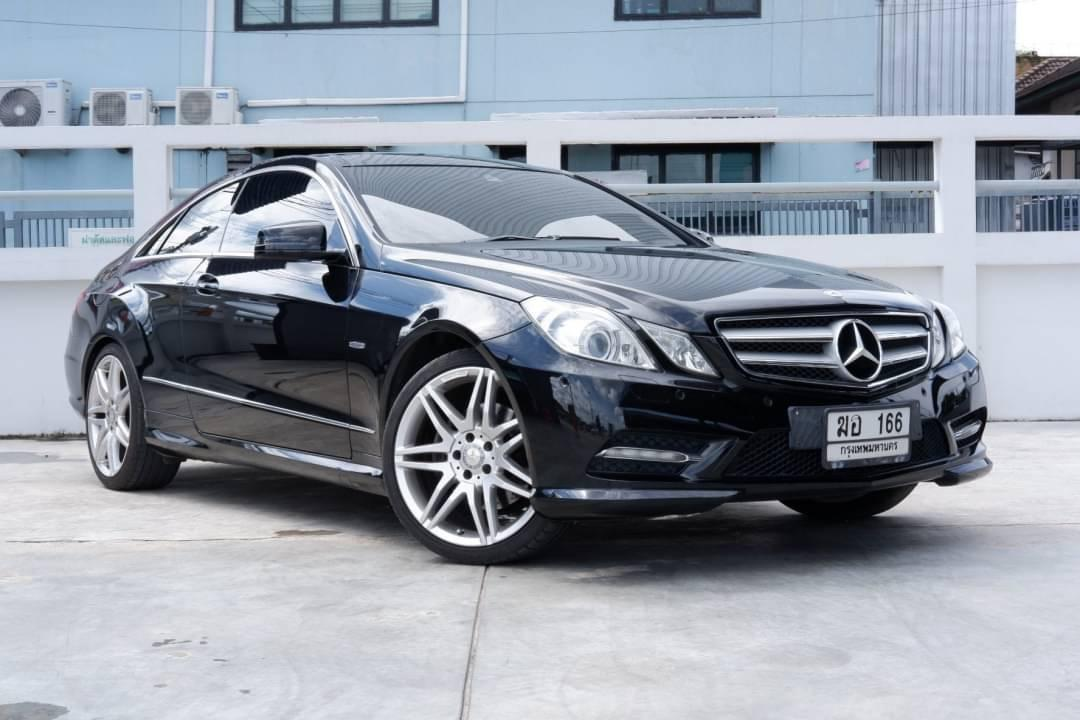license-plate: (818, 404, 918, 468)
